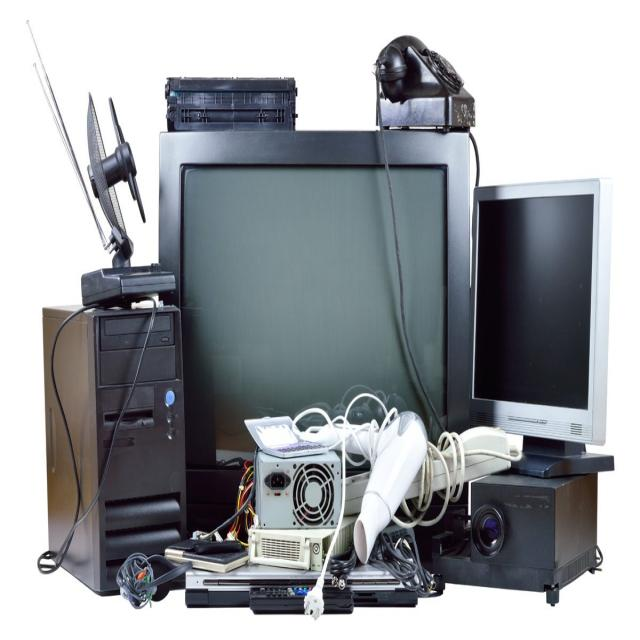heap: (42, 108, 595, 609)
plastic: (39, 292, 191, 597)
